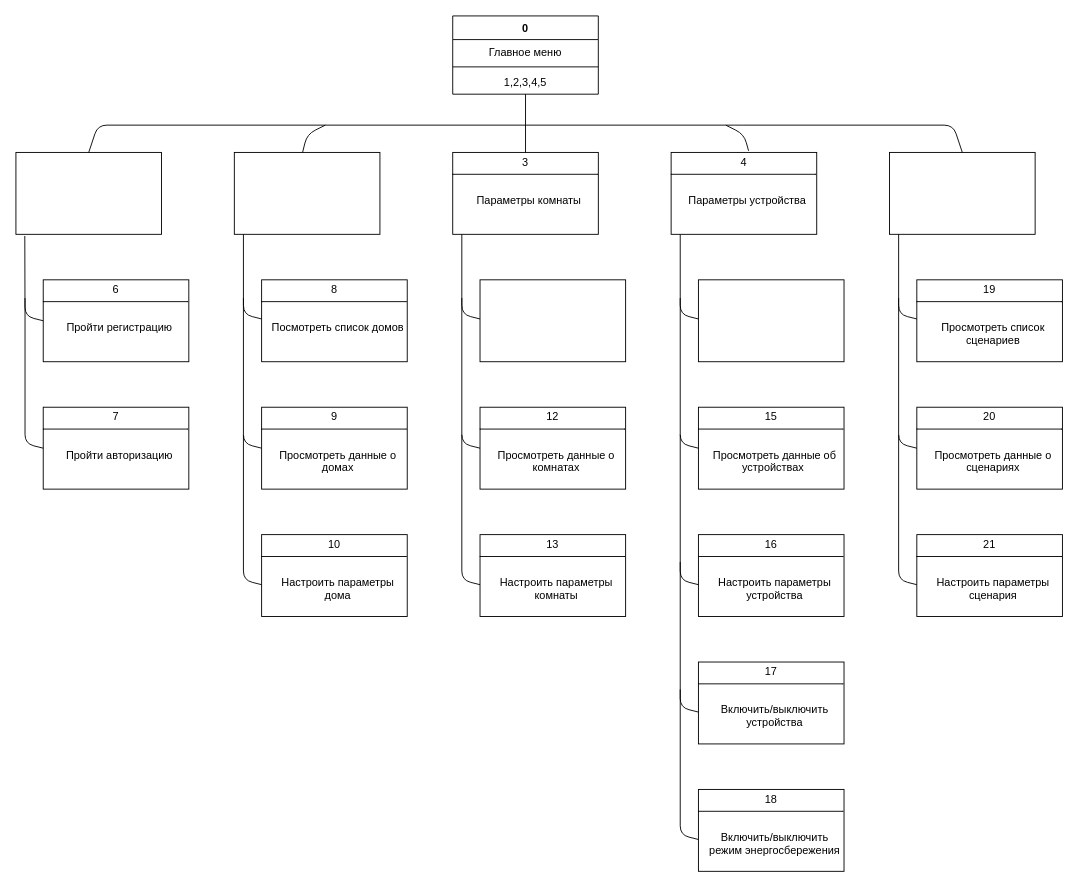
This 1078x887 diagram has some shape labels left out. The shapes that lost their labels are listed below. From the top down, each one's centre as x and y in pixels, then its label:
At pixel 88 193: "1 Учетная запись".
At pixel 306 193: "2 Параметры дома".
At pixel 962 193: "5 Параметры сценария".
At pixel 552 320: "11 Посмотреть список комнат".
At pixel 771 320: "14 Просмотреть список устройств".
